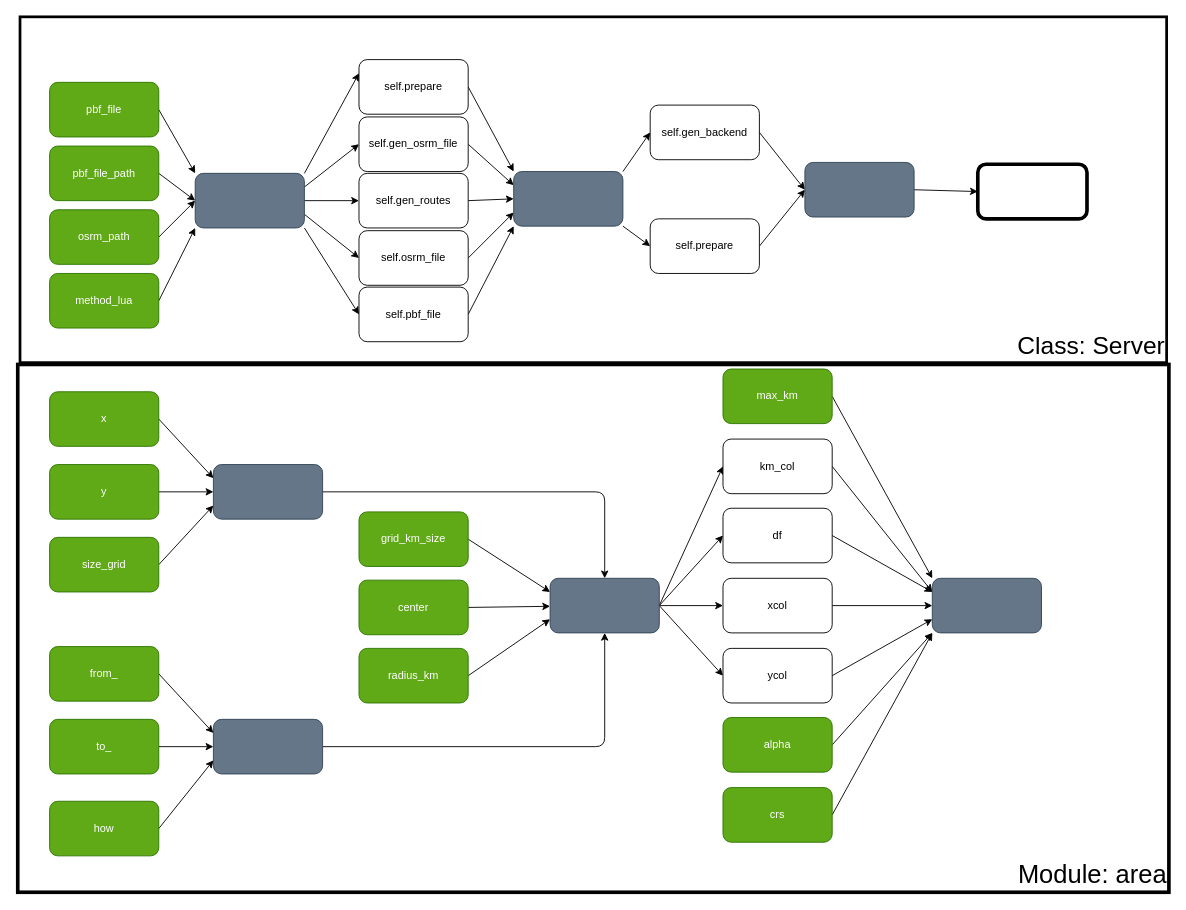
Image size: 1186x910. Some labels were removed from this diagram. Each missing label, with the centre of its shape:
"__init__()" goes at (x=249, y=200).
"console running" goes at (x=1032, y=191).
"get_ameba()" goes at (x=986, y=605).
"get_osrm_route()" goes at (x=267, y=746).
"get_routes()" goes at (x=604, y=605).
"make_grid()" goes at (x=267, y=491).
"prepare_server()" goes at (x=568, y=198).
"run_server()" goes at (x=859, y=189).
